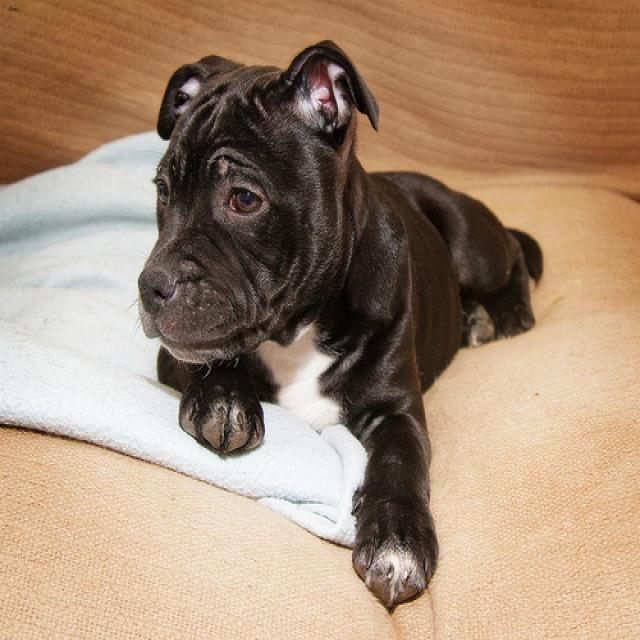dog-staffordshire_bull_terrier: (124, 34, 550, 624)
